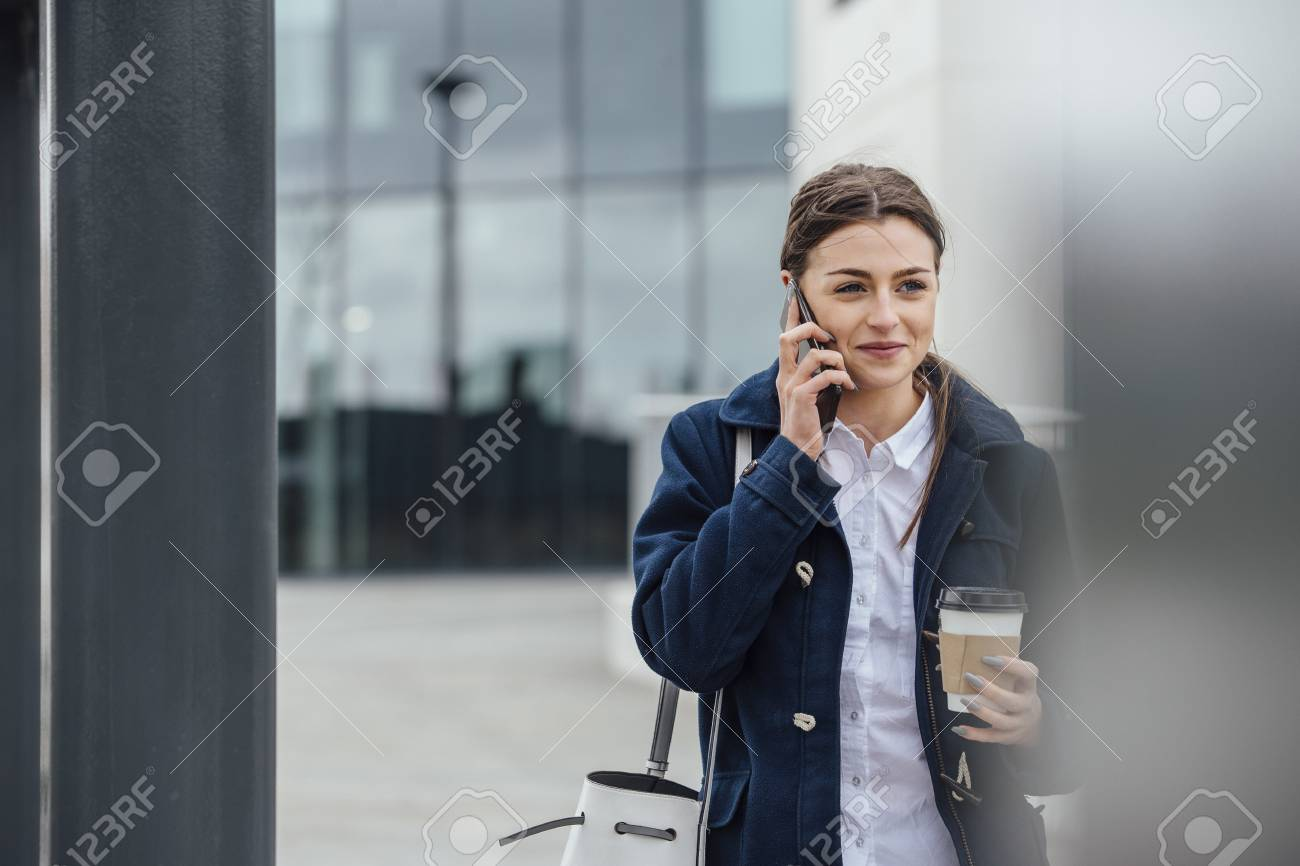phone: (769, 285, 848, 430)
talk: (762, 260, 941, 451)
